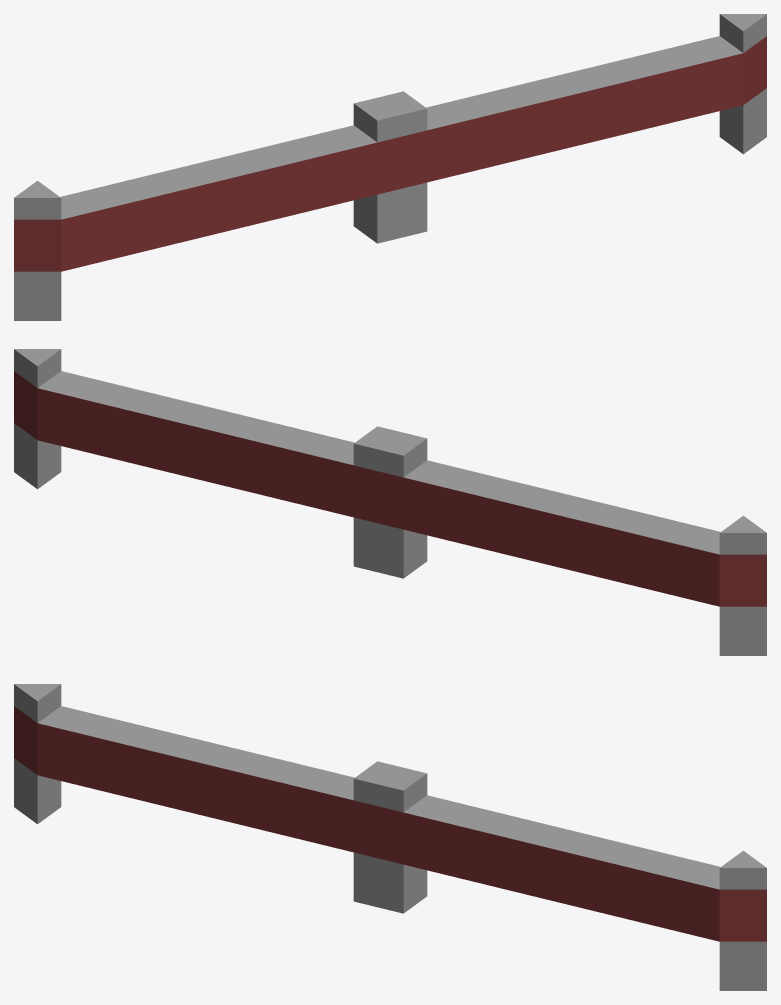
File: APRailD.fbx
3 views of the same model, one above another, from view 1: azimuth 30°, elevation 25°; view 2: azimuth 150°, elevation 25°; view 3: azimuth 330°, elevation 25° (orthographic).
Parts seen in each view (by area): view 1: APRailD; view 2: APRailD; view 3: APRailD.
Boxes of the visible parts, x1,y1,x2,y2 form: APRailD: (14,14,766,320); APRailD: (14,349,766,655); APRailD: (14,684,766,990).
Size of the model in its own units: 514 by 80.29 by 27.91.
1 material, 1 textured.
